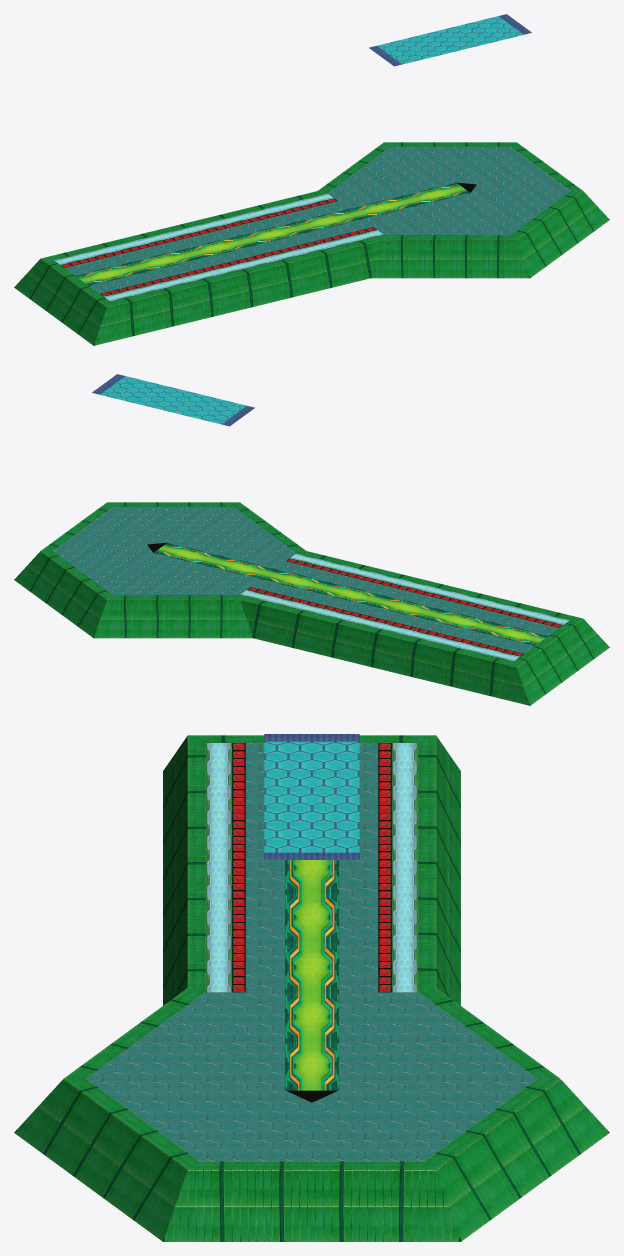
Rendered from S03_ONS_09.OBJ.
3 views of the same model, one above another, from view 1: azimuth 30°, elevation 25°; view 2: azimuth 150°, elevation 25°; view 3: azimuth 270°, elevation 25° (orthographic). The views are drawn at different scales.
Parts seen in each view (by area): view 1: s03_ons_09_5, s03_ons_09_3, s03_ons_09_4, s03_ons_09_2, s03_ons_09_7, s03_ons_09_1, s03_ons_09_6; view 2: s03_ons_09_5, s03_ons_09_3, s03_ons_09_4, s03_ons_09_2, s03_ons_09_7, s03_ons_09_1, s03_ons_09_6; view 3: s03_ons_09_5, s03_ons_09_3, s03_ons_09_2, s03_ons_09_4, s03_ons_09_7, s03_ons_09_1, s03_ons_09_6.
Part boxes in pixels (left/top/right/bottom): s03_ons_09_5: left=14, top=142, right=609, bottom=345; s03_ons_09_3: left=64, top=146, right=570, bottom=293; s03_ons_09_4: left=75, top=182, right=469, bottom=285; s03_ons_09_2: left=54, top=193, right=383, bottom=301; s03_ons_09_7: left=377, top=16, right=523, bottom=64; s03_ons_09_1: left=61, top=198, right=376, bottom=296; s03_ons_09_6: left=369, top=14, right=531, bottom=66; s03_ons_09_5: left=14, top=502, right=609, bottom=705; s03_ons_09_3: left=53, top=506, right=559, bottom=653; s03_ons_09_4: left=154, top=542, right=548, bottom=645; s03_ons_09_2: left=240, top=553, right=569, bottom=661; s03_ons_09_7: left=100, top=376, right=246, bottom=424; s03_ons_09_1: left=247, top=558, right=562, bottom=656; s03_ons_09_6: left=92, top=374, right=254, bottom=426; s03_ons_09_5: left=14, top=735, right=609, bottom=1241; s03_ons_09_3: left=86, top=743, right=537, bottom=1161; s03_ons_09_2: left=205, top=743, right=418, bottom=992; s03_ons_09_4: left=285, top=860, right=338, bottom=1090; s03_ons_09_7: left=264, top=741, right=359, bottom=852; s03_ons_09_1: left=232, top=743, right=391, bottom=992; s03_ons_09_6: left=264, top=734, right=359, bottom=859.
Size of the model in its own units: 932 by 310 by 499.
